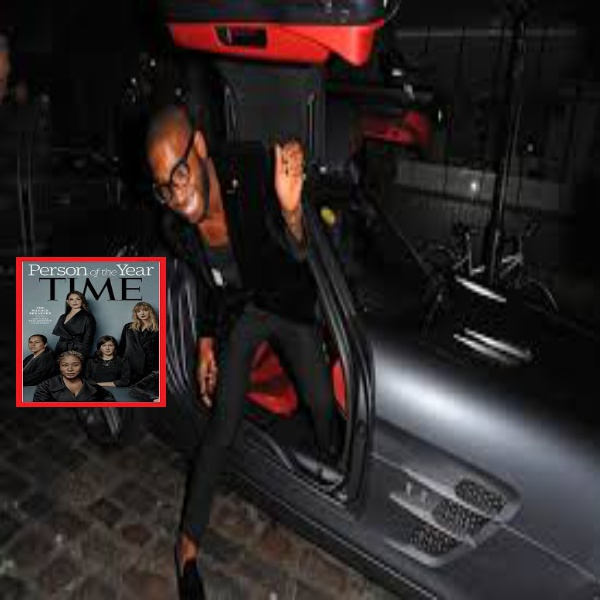time_cover: (5, 245, 172, 410)
